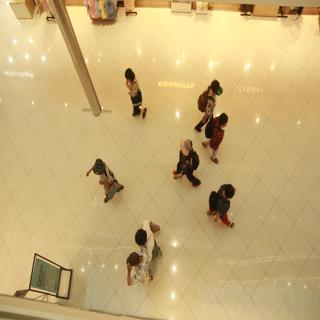person: (82, 149, 130, 206), (115, 58, 151, 120), (131, 216, 185, 257), (206, 178, 239, 240), (123, 249, 160, 294), (175, 132, 201, 190), (194, 72, 219, 129), (210, 110, 234, 166)
